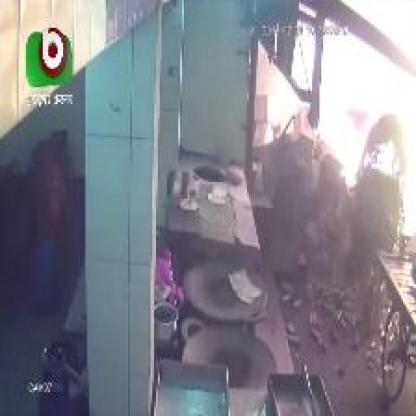fire: (267, 2, 416, 239)
